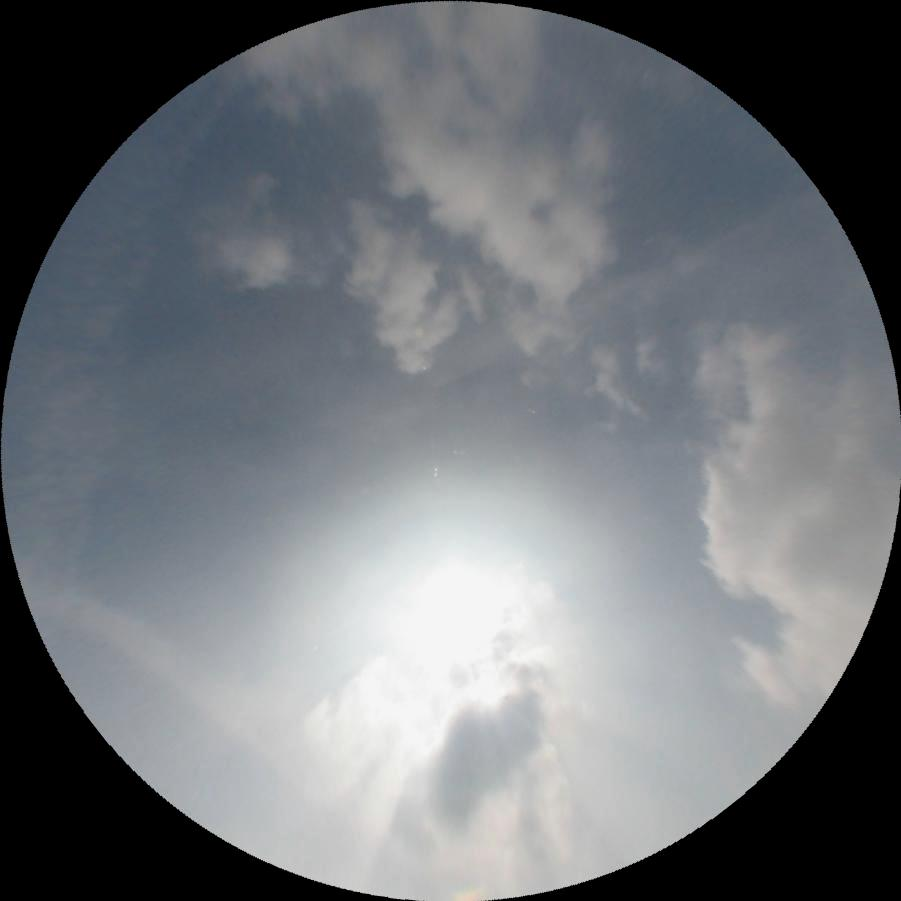sun: (378, 528, 535, 681)
